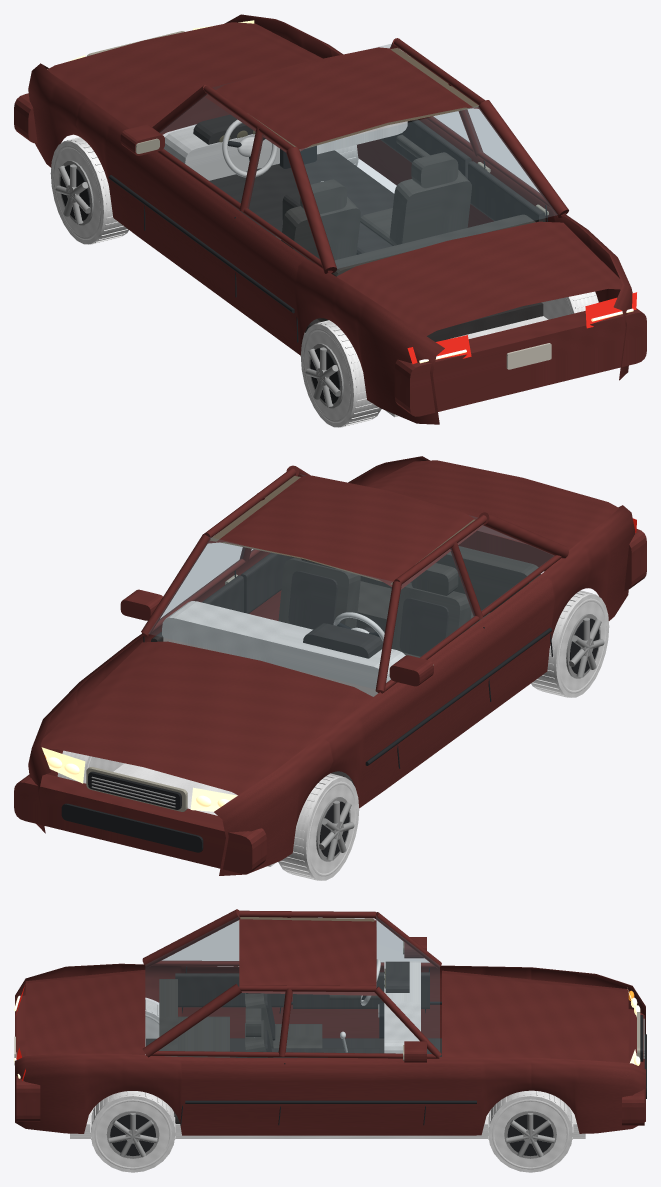
File: Car_Sedan.glb
3 renders of one model, top to bottom at view 1: azimuth 30°, elevation 25°; view 2: azimuth 150°, elevation 25°; view 3: azimuth 270°, elevation 25°, orthographic. The views are drawn at different scales.
Parts seen in each view (by area): view 1: Driver_Body, Rear_Glass, Trunk_Lid, Hood, Roof, Rear_Bumper, Car_Sedan, Seat_Back (×2), Carpet, Passenger_Body, Window_FL, Wheel_RL (+20 smaller); view 2: Driver_Body, Hood, Windshield, Roof, Car_Sedan, Trunk_Lid, Front_Bumper, Dashboard, Window_FL, Wheel_FL, Wheel_RL, Passenger_Body (+19 smaller); view 3: Passenger_Body, Hood, Car_Sedan, Trunk_Lid, Roof, Driver_Body, Rear_Glass, Window_FR, Wheel_FR, Wheel_RR, Window_RR, Windshield (+19 smaller).
Part boxes in pixels (x1,y1,x2,y2): Driver_Body: (28, 63, 444, 424); Rear_Glass: (300, 106, 557, 268); Trunk_Lid: (336, 221, 622, 335); Hood: (47, 22, 322, 134); Roof: (205, 47, 478, 152); Rear_Bumper: (394, 308, 646, 416); Car_Sedan: (108, 38, 633, 363); Seat_Back (×2): (281, 170, 471, 263); Carpet: (209, 150, 543, 341); Passenger_Body: (225, 14, 632, 380); Window_FL: (159, 94, 255, 203); Wheel_RL: (300, 320, 381, 427); Driver_Body: (214, 505, 635, 875); Hood: (40, 641, 372, 804); Windshield: (149, 537, 392, 688); Roof: (208, 475, 483, 589); Car_Sedan: (44, 465, 568, 809); Trunk_Lid: (366, 460, 618, 550); Front_Bumper: (14, 774, 266, 874); Dashboard: (162, 601, 405, 696); Window_FL: (386, 548, 474, 682); Wheel_FL: (278, 773, 359, 880); Wheel_RL: (531, 590, 609, 697); Passenger_Body: (28, 456, 429, 833); Passenger_Body: (15, 1053, 645, 1135); Hood: (442, 970, 628, 1075); Car_Sedan: (14, 909, 644, 1125); Trunk_Lid: (25, 970, 145, 1055); Roof: (239, 918, 376, 995); Driver_Body: (15, 963, 645, 1051); Rear_Glass: (145, 917, 238, 1045); Window_FR: (286, 992, 431, 1053); Wheel_FR: (488, 1090, 573, 1172); Wheel_RR: (90, 1091, 175, 1172); Window_RR: (159, 991, 284, 1051); Windshield: (376, 916, 439, 1051).
Size of the model in its own units: 2.04 by 1.45 by 4.71.
18 materials, 5 textured.
